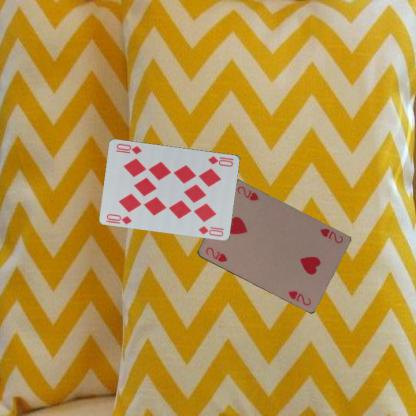10d: (206, 153, 235, 168), (104, 211, 133, 225)
2h: (317, 225, 344, 245), (203, 245, 228, 264)
